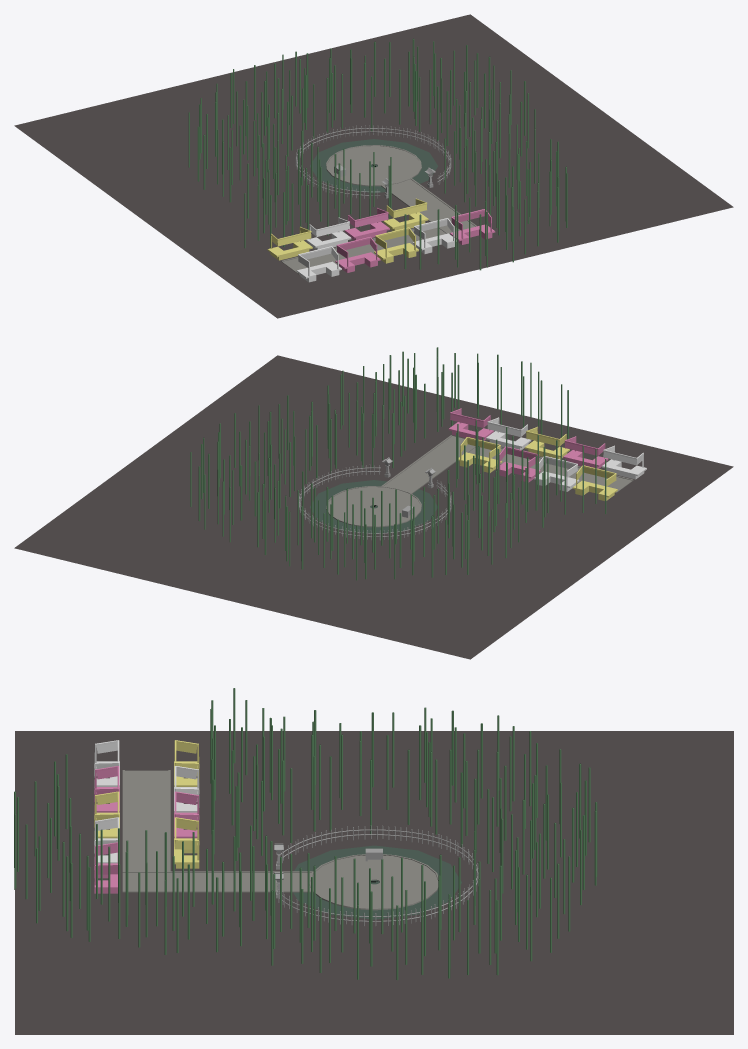
The model's file is environment.fbx.
3 views of the same model, one above another, from view 1: azimuth 30°, elevation 25°; view 2: azimuth 150°, elevation 25°; view 3: azimuth 270°, elevation 25° (orthographic). The views are drawn at different scales.
Visible parts, largest first — view 1: bamboo, dirt_topleft_l, dirt_bottomright_br_r, dirt_topright_br_r, dirt_topleft_tl, dirt_bottomleft_tl, dirt_bottomleft_l, dirt_bottomright_r, dirt_topright_tl, dirt_topright_tr, dirt_bottomleft_br_r, dirt_topright_r (+38 smaller); view 2: bamboo, dirt_topleft_l, dirt_bottomright_tr, dirt_topright_tr, dirt_topleft_t, dirt_topright_t, dirt_topright_tl, dirt_bottomleft_tl, dirt_topleft_tl, dirt_bottomleft_l, dirt_topleft_tr, dirt_bottomright_br_r (+38 smaller); view 3: bamboo, stone_path, dirt_topleft_tr, dirt_topright_tl, dirt_bottomleft_br_r, dirt_bottomright_r, dirt_topright_r, dirt_topright_br_r, dirt_topleft_br_r, dirt_bottomright_tr, dirt_topright_tr, dirt_bottomright_br_r (+38 smaller).
Part boxes in pixels (x1,y1,x2,y2): bamboo: [188, 38, 567, 270]; dirt_topleft_l: [102, 171, 221, 221]; dirt_bottomright_br_r: [614, 175, 733, 225]; dirt_topright_br_r: [570, 143, 689, 193]; dirt_topleft_tl: [14, 107, 133, 157]; dirt_bottomleft_tl: [58, 139, 177, 189]; dirt_bottomleft_l: [146, 203, 265, 254]; dirt_bottomright_r: [526, 111, 645, 161]; dirt_topright_tl: [90, 88, 209, 139]; dirt_topright_tr: [395, 14, 513, 64]; dirt_bottomleft_br_r: [539, 193, 657, 244]; dirt_topright_r: [482, 78, 601, 129]; bamboo: [190, 347, 606, 580]; dirt_topleft_l: [482, 544, 601, 595]; dirt_bottomright_tr: [58, 484, 177, 534]; dirt_topright_tr: [14, 516, 133, 566]; dirt_topleft_t: [242, 572, 361, 622]; dirt_topright_t: [166, 553, 285, 603]; dirt_topright_tl: [318, 590, 437, 640]; dirt_bottomleft_tl: [438, 576, 557, 627]; dirt_topleft_tl: [395, 609, 513, 659]; dirt_bottomleft_l: [526, 512, 645, 562]; dirt_topleft_tr: [90, 534, 209, 585]; dirt_bottomright_br_r: [234, 355, 352, 405]; bamboo: [14, 688, 597, 980]; stone_path: [122, 770, 313, 892]; dirt_topleft_tr: [614, 933, 733, 984]; dirt_topright_tl: [614, 781, 733, 832]; dirt_bottomleft_br_r: [15, 933, 134, 984]; dirt_bottomright_r: [254, 984, 374, 1034]; dirt_topright_r: [374, 984, 494, 1034]; dirt_topright_br_r: [134, 984, 254, 1034]; dirt_topleft_br_r: [134, 933, 254, 984]; dirt_bottomright_tr: [494, 984, 613, 1034]; dirt_topright_tr: [614, 984, 733, 1034]; dirt_bottomright_br_r: [15, 984, 134, 1034].
Size of the model in its own units: 3000 by 350 by 3004.
